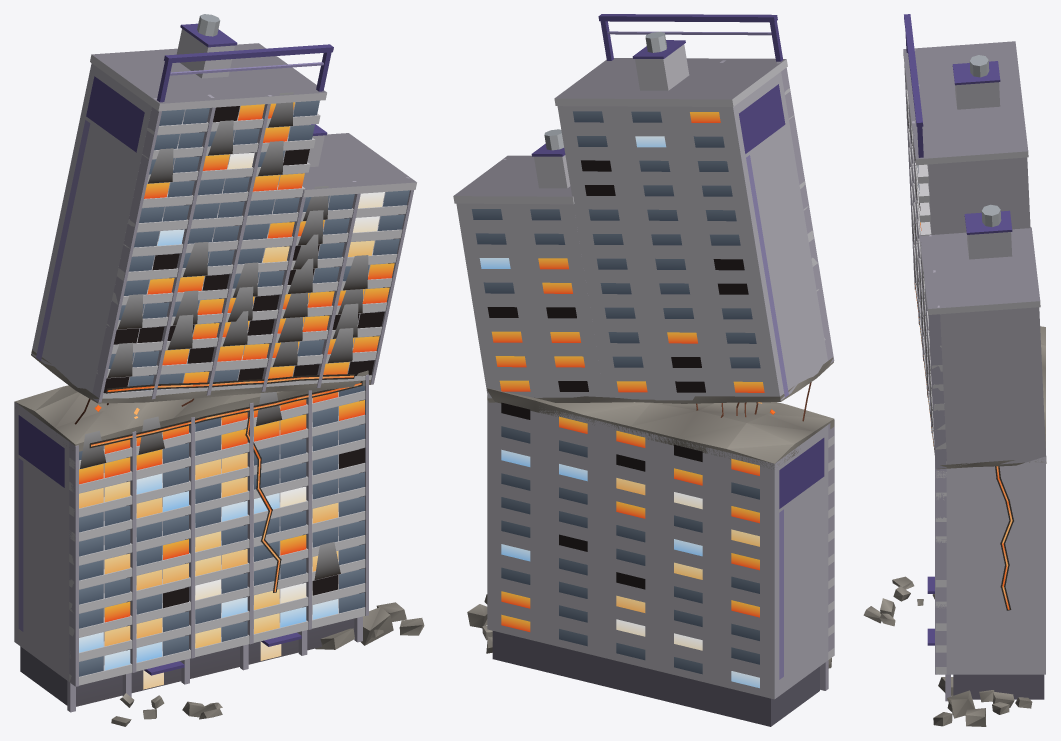
Rendered from bld_apt_D_collapsed.meshopt.glb.
3 views of the same model, side by side, from view 1: azimuth 30°, elevation 25°; view 2: azimuth 150°, elevation 25°; view 3: azimuth 270°, elevation 25° (orthographic). The views are drawn at different scales.
Parts seen in each view (by area): view 1: bld_apt_D_collapsed; view 2: bld_apt_D_collapsed; view 3: bld_apt_D_collapsed.
Part boxes in pixels (x1,y1,x2,y2): bld_apt_D_collapsed: (14,14,424,726); bld_apt_D_collapsed: (453,14,834,726); bld_apt_D_collapsed: (863,14,1046,726).
Size of the model in its own units: 44.58 by 79.76 by 22.08.
